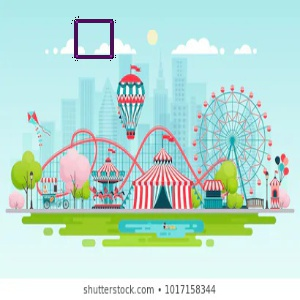square: (74, 18, 115, 61)
